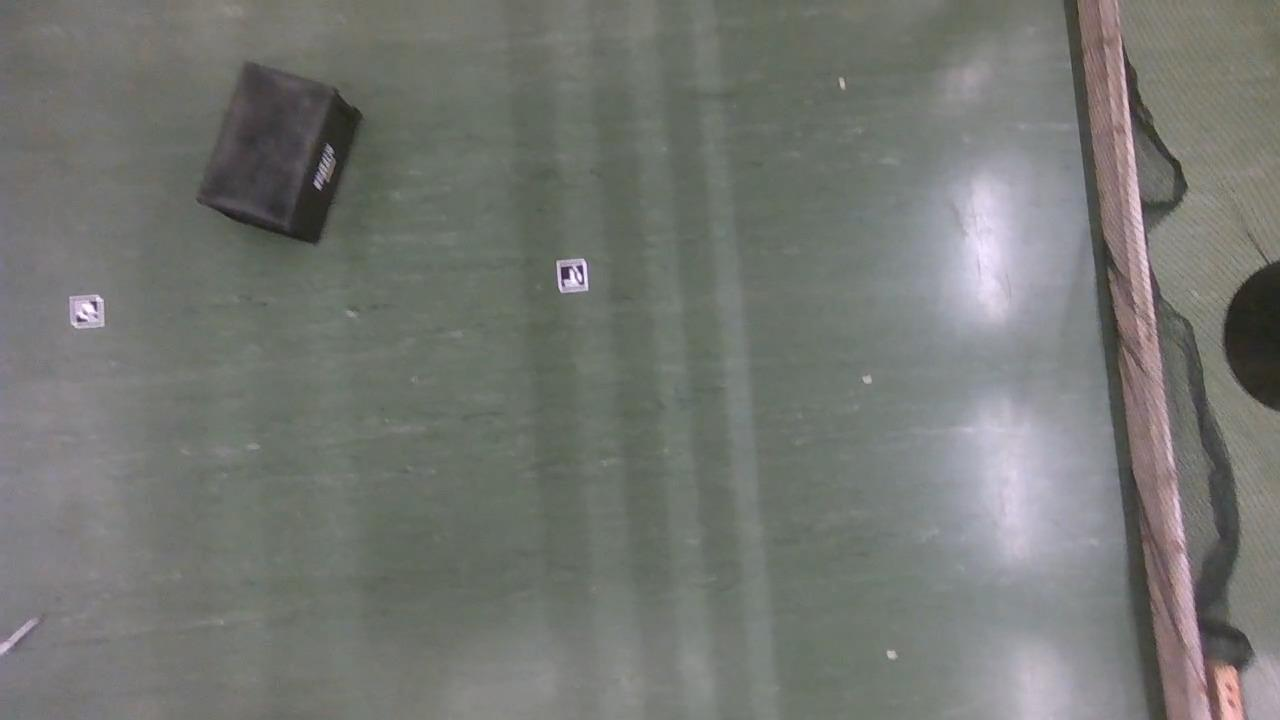probes: (0, 614, 41, 661)
rako: (195, 62, 363, 246)
